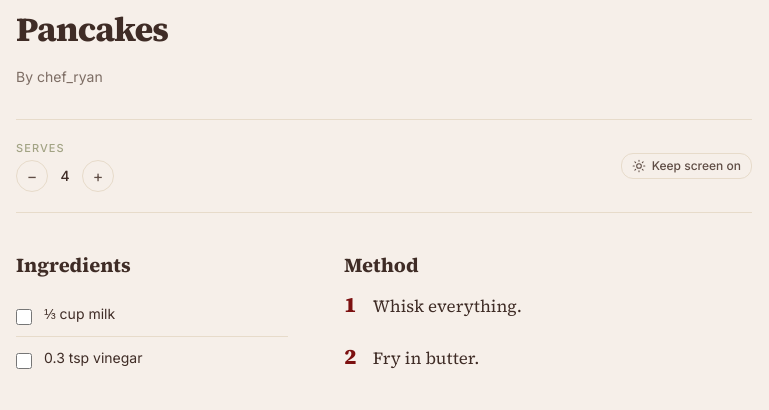
Test case: scaling › snaps scaled amounts to a measurable fraction, but not the author's own
The image size is (769, 410).
expect the text "0.3 tsp vinegar" is shown: met, box [44, 347, 142, 370]
What coordinates should you click on to do the following:
click the button named "More servings"
I would click on:
 (98, 176)
Its box is [82, 160, 114, 192].
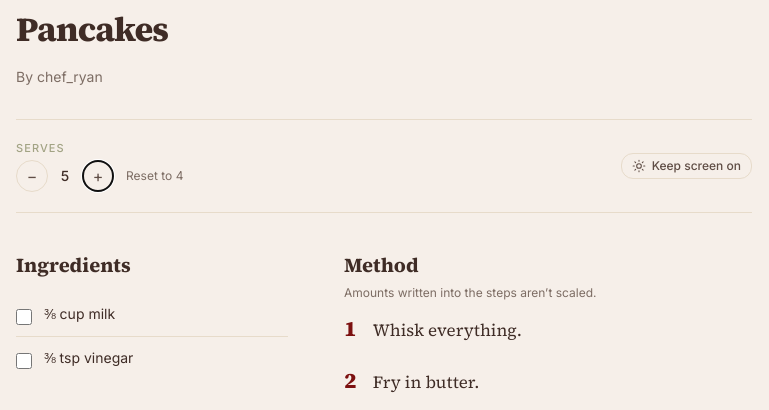
expect the text "⅜ cup milk" is shown: met, box [44, 303, 115, 326]
expect the text "⅜ tsp vinegar" is shown: met, box [44, 347, 133, 370]
